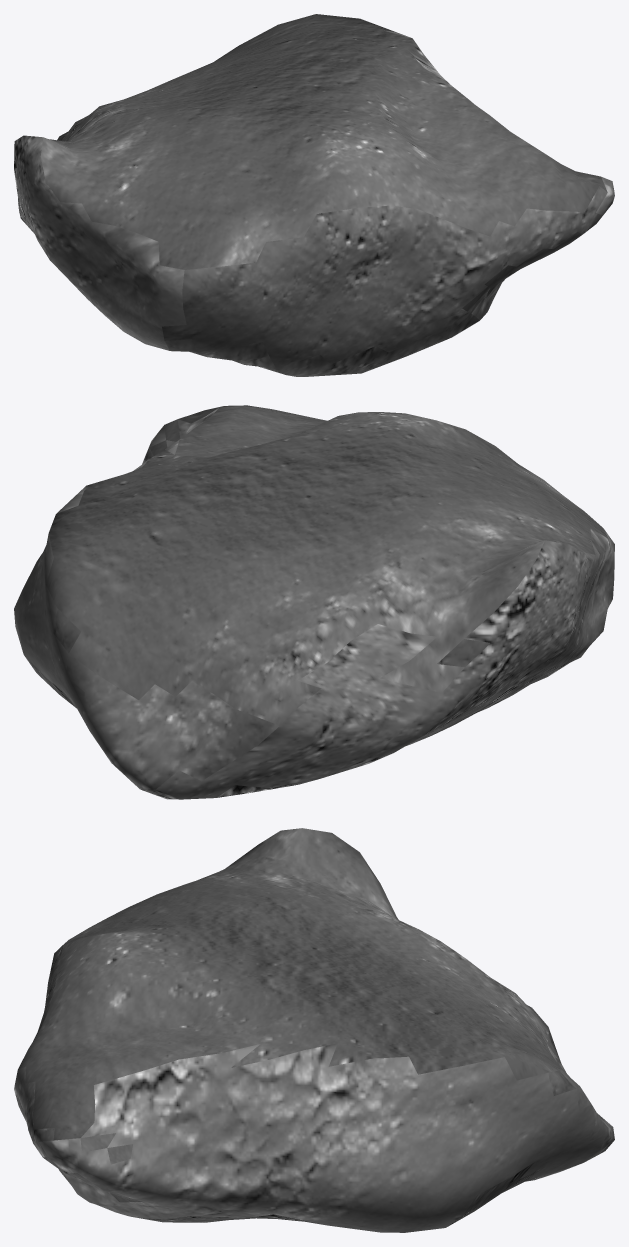
The model's file is Rock6.obj.
3 renders of one model, top to bottom at view 1: azimuth 30°, elevation 25°; view 2: azimuth 150°, elevation 25°; view 3: azimuth 270°, elevation 25°, orthographic. The views are drawn at different scales.
Parts seen in each view (by area): view 1: Rocks9; view 2: Rocks9; view 3: Rocks9.
Boxes of the visible parts, x1,y1,x2,y2 form: Rocks9: (14, 14, 614, 376); Rocks9: (14, 405, 614, 799); Rocks9: (14, 828, 614, 1232).
Size of the model in its own units: 0.727 by 0.3609 by 0.7284.
1 material, 1 textured.
